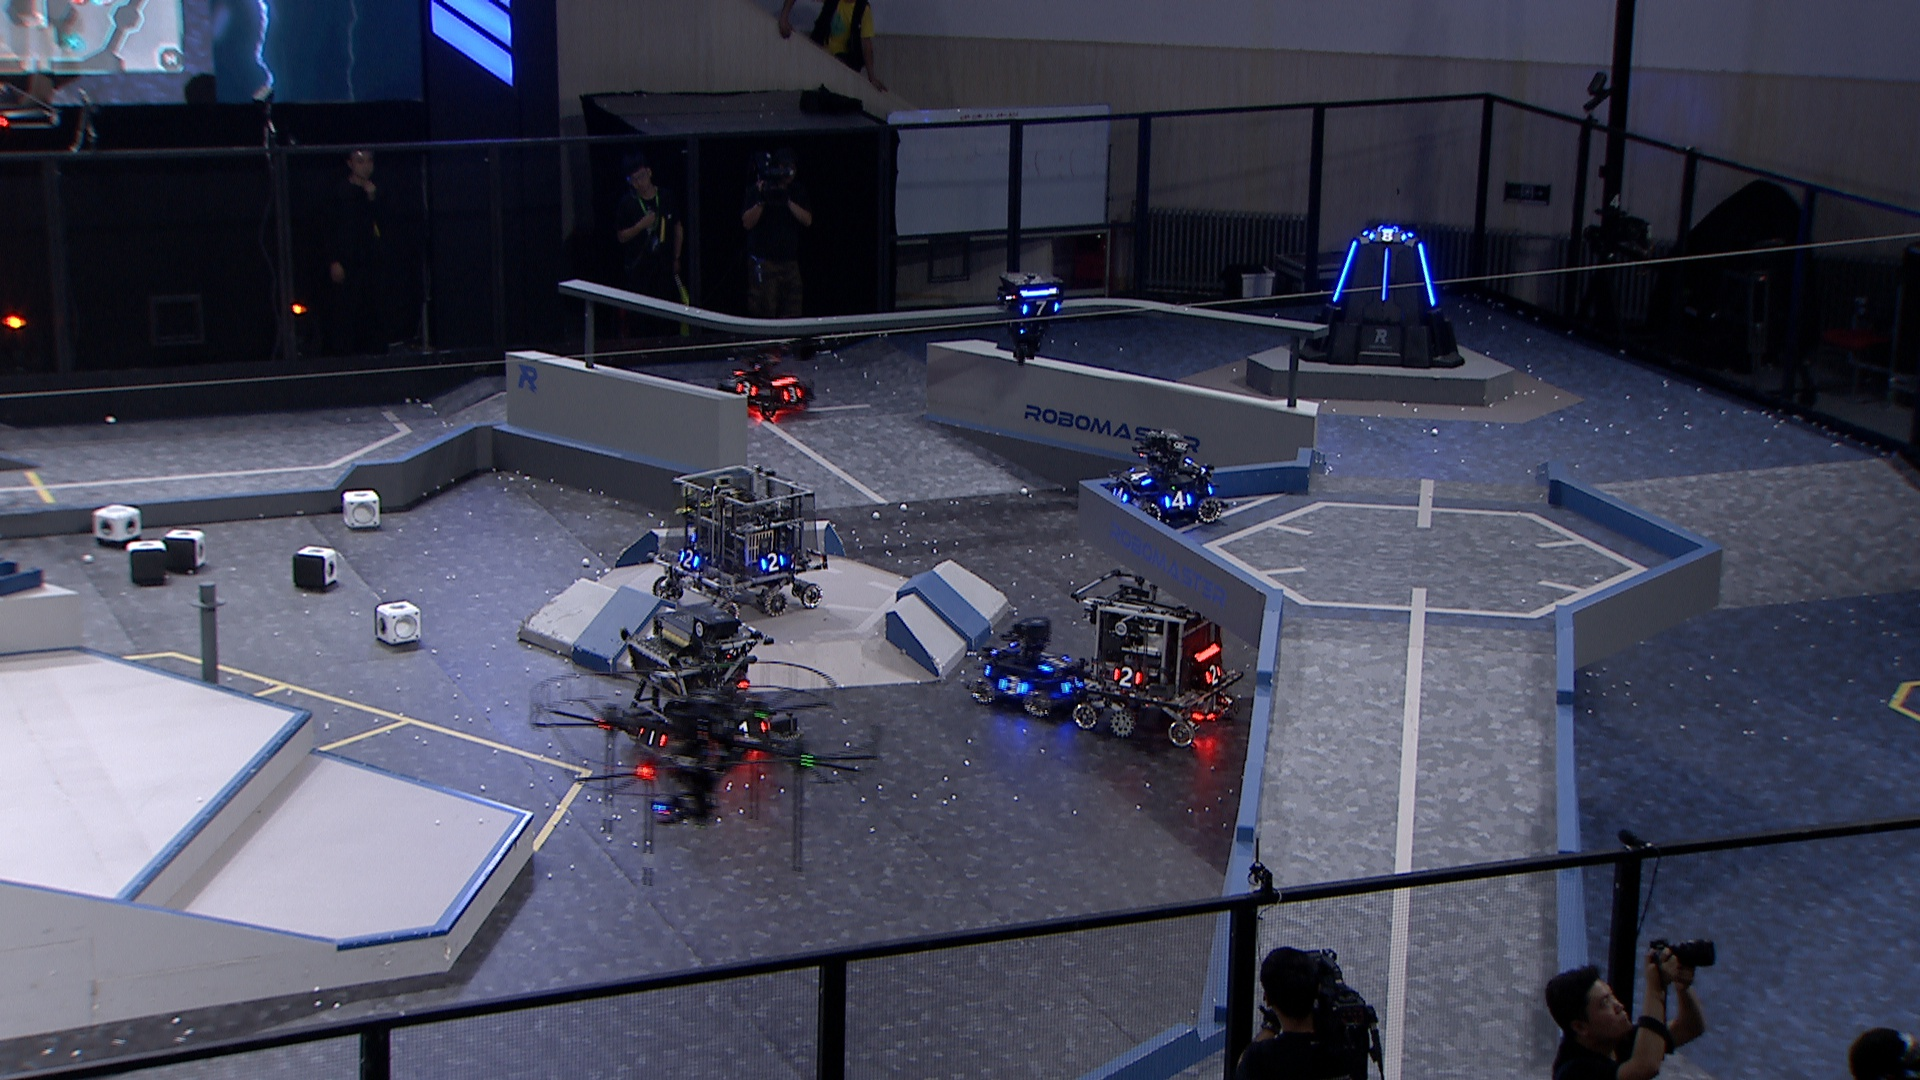armor: (1329, 235, 1360, 305), (1414, 237, 1439, 309), (723, 717, 767, 745), (1375, 248, 1394, 305), (1017, 297, 1064, 316), (1112, 662, 1145, 688), (1035, 651, 1076, 673), (998, 671, 1029, 698), (637, 723, 666, 749), (1367, 225, 1408, 244), (760, 551, 787, 575), (1125, 465, 1154, 487), (1162, 489, 1192, 509), (678, 549, 704, 570), (1204, 662, 1225, 687), (1059, 673, 1084, 694), (779, 384, 806, 404), (733, 378, 756, 401), (1112, 483, 1131, 505)
base: (1300, 220, 1472, 372)
car: (1069, 564, 1244, 744), (647, 460, 833, 622), (618, 597, 782, 771), (965, 612, 1091, 721), (1106, 423, 1228, 529), (713, 327, 823, 419)
watcher: (992, 270, 1065, 367)
